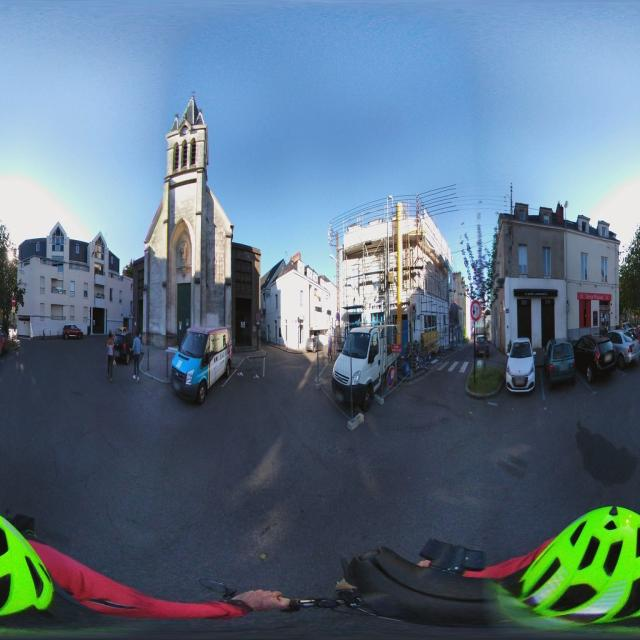forb_stopping: (387, 371, 392, 387), (335, 312, 340, 321), (412, 306, 415, 311), (260, 313, 262, 319), (298, 317, 300, 323)
forb_waiting: (257, 315, 260, 322)
